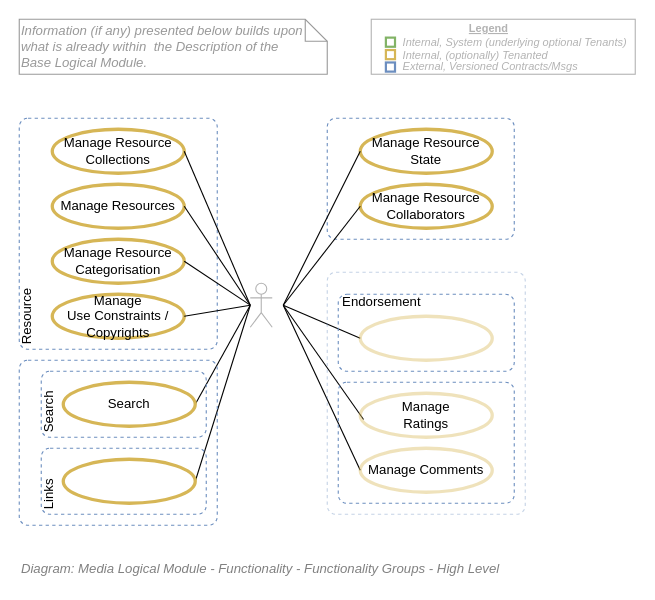
The diagram is 655 pixels wide and 600 high, and some of its shapes have lost their labels. Each missing label, with the box of its shape:
Common Functionality Extension: (326, 271, 525, 514)
Extended: (18, 359, 217, 525)
Feedback: (337, 381, 514, 503)
Flow managed Creation: (326, 117, 514, 239)
Manage Endorsements: (358, 314, 493, 361)
Manage Resource Relationships: (61, 457, 196, 504)
User: (249, 282, 272, 327)
